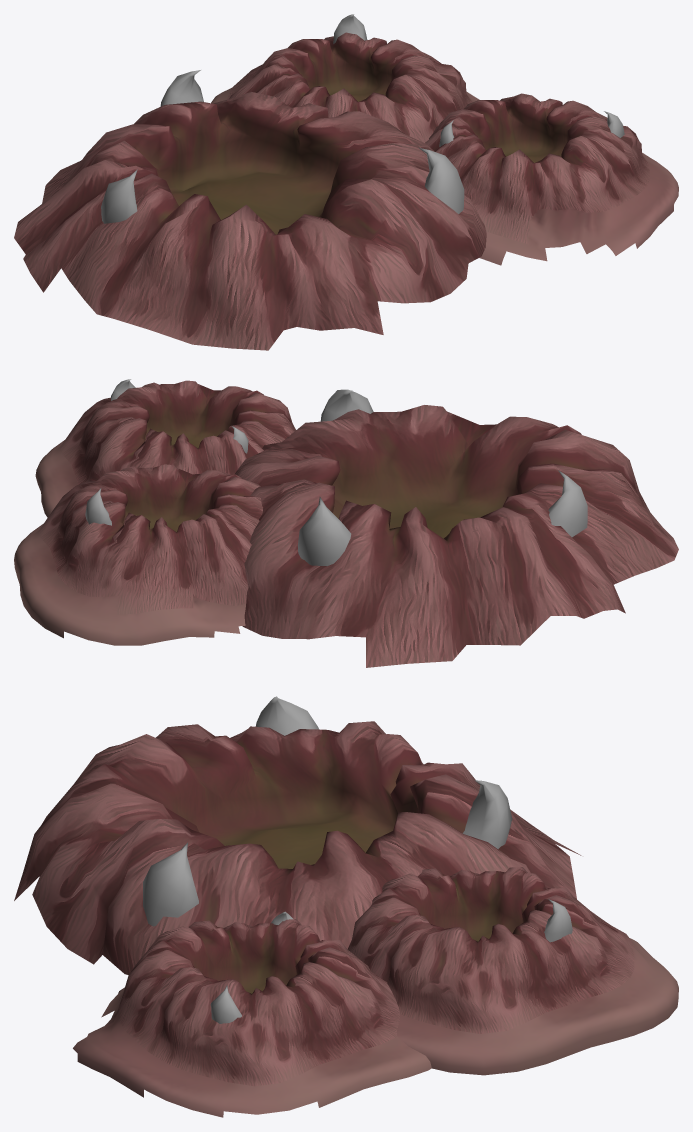
The model's file is ano spawner.fbx.
The picture shows the model from 3 angles, top to bottom: view 1: azimuth 30°, elevation 25°; view 2: azimuth 150°, elevation 25°; view 3: azimuth 270°, elevation 25°; orthographic projection. The views are drawn at different scales.
Visible parts, largest first — view 1: Cube_ignore.003; view 2: Cube_ignore.003; view 3: Cube_ignore.003.
Boxes of the visible parts, x1,y1,x2,y2 form: Cube_ignore.003: [14, 14, 678, 350]; Cube_ignore.003: [14, 379, 678, 667]; Cube_ignore.003: [14, 696, 678, 1117].
Bounding box in the file's own units: 118 × 22.25 × 99.42.
Materials: 1 (1 with a texture image).
